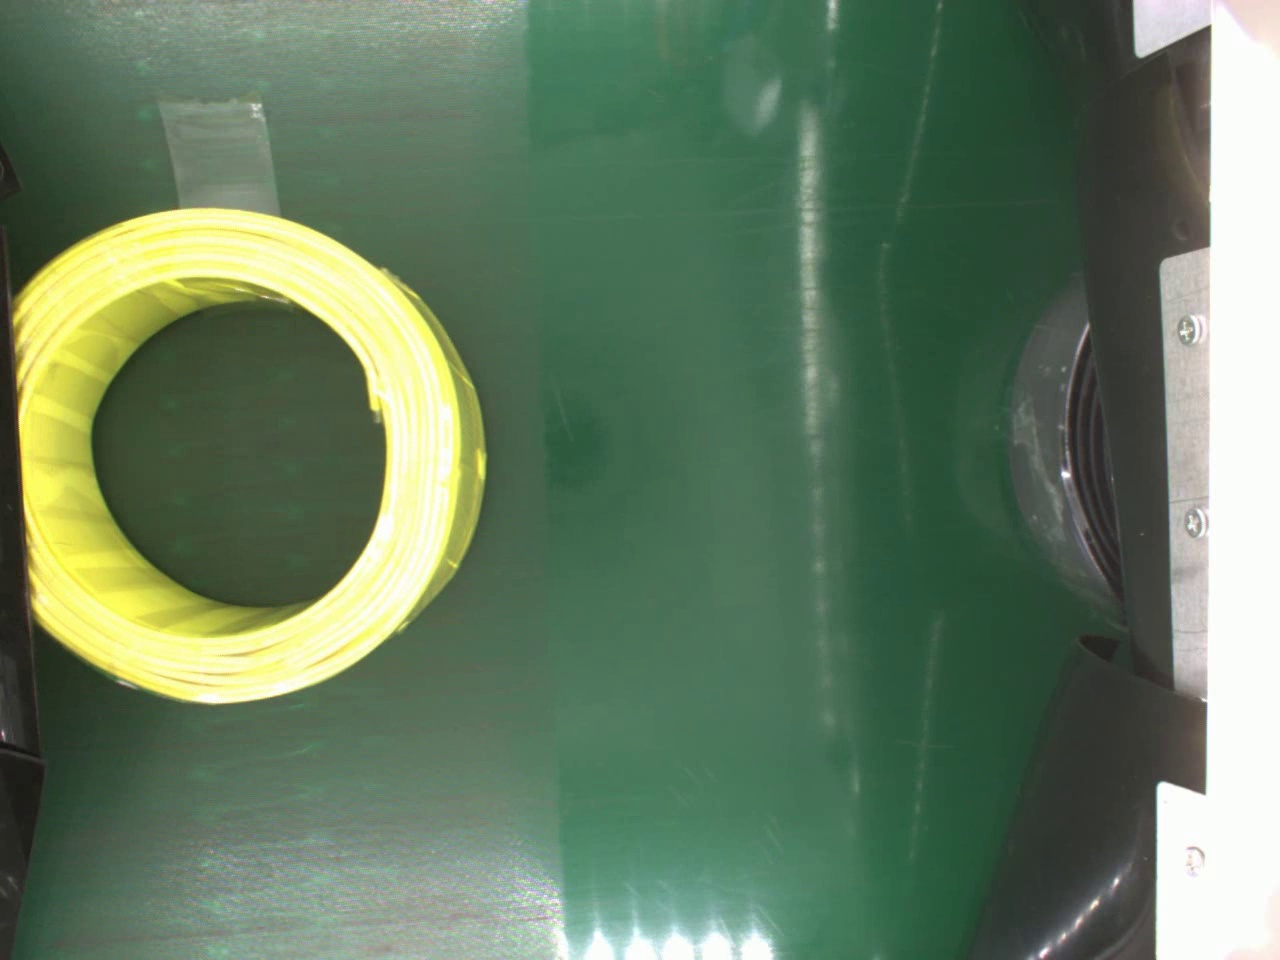black: (1003, 278, 1129, 613)
yellow: (6, 205, 488, 712)
